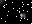person: (20, 12, 25, 22)
